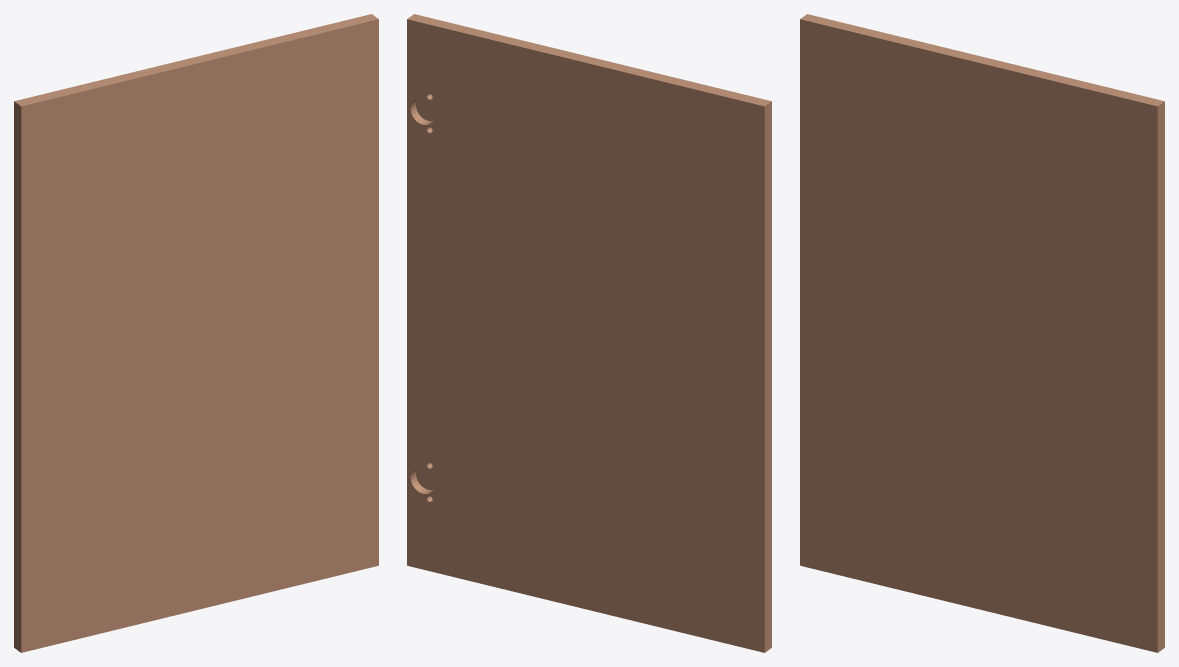
The model's file is A3_dor.glb.
The picture shows the model from 3 angles, left to right: view 1: azimuth 30°, elevation 25°; view 2: azimuth 150°, elevation 25°; view 3: azimuth 330°, elevation 25°; orthographic projection.
Bounding box in the file's own units: 506 × 738 × 17.4.
